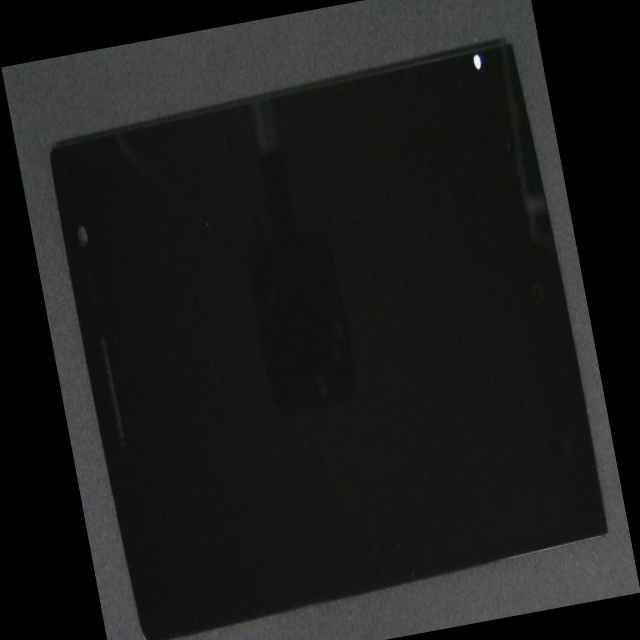stain: (245, 69, 556, 188)
